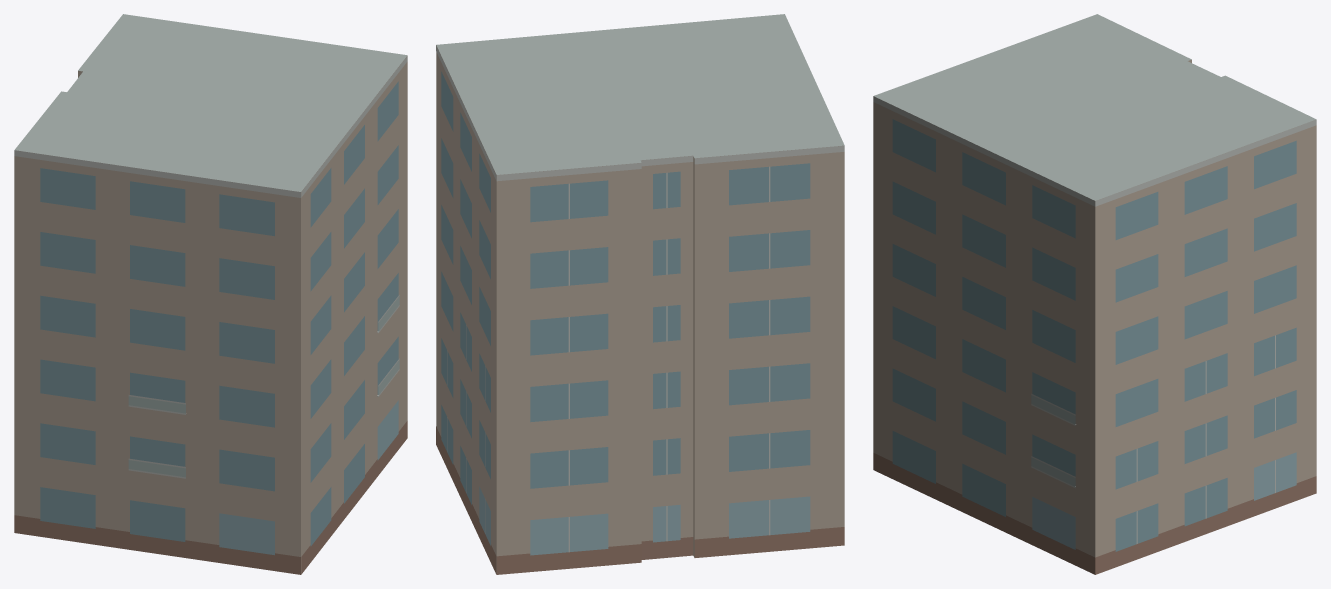
File: survey-upis-32889212.glb
3 renders of one model, left to right at view 1: azimuth 30°, elevation 25°; view 2: azimuth 150°, elevation 25°; view 3: azimuth 270°, elevation 25°, orthographic. The views are drawn at different scales.
Visible parts, largest first — view 1: survey-upis-32889212.tmp; view 2: survey-upis-32889212.tmp; view 3: survey-upis-32889212.tmp.
Part boxes in pixels (x1,y1,x2,y2): survey-upis-32889212.tmp: (14, 14, 407, 574); survey-upis-32889212.tmp: (436, 14, 844, 574); survey-upis-32889212.tmp: (873, 14, 1316, 574).
Size of the model in its own units: 16.84 by 15.7 by 16.88.
